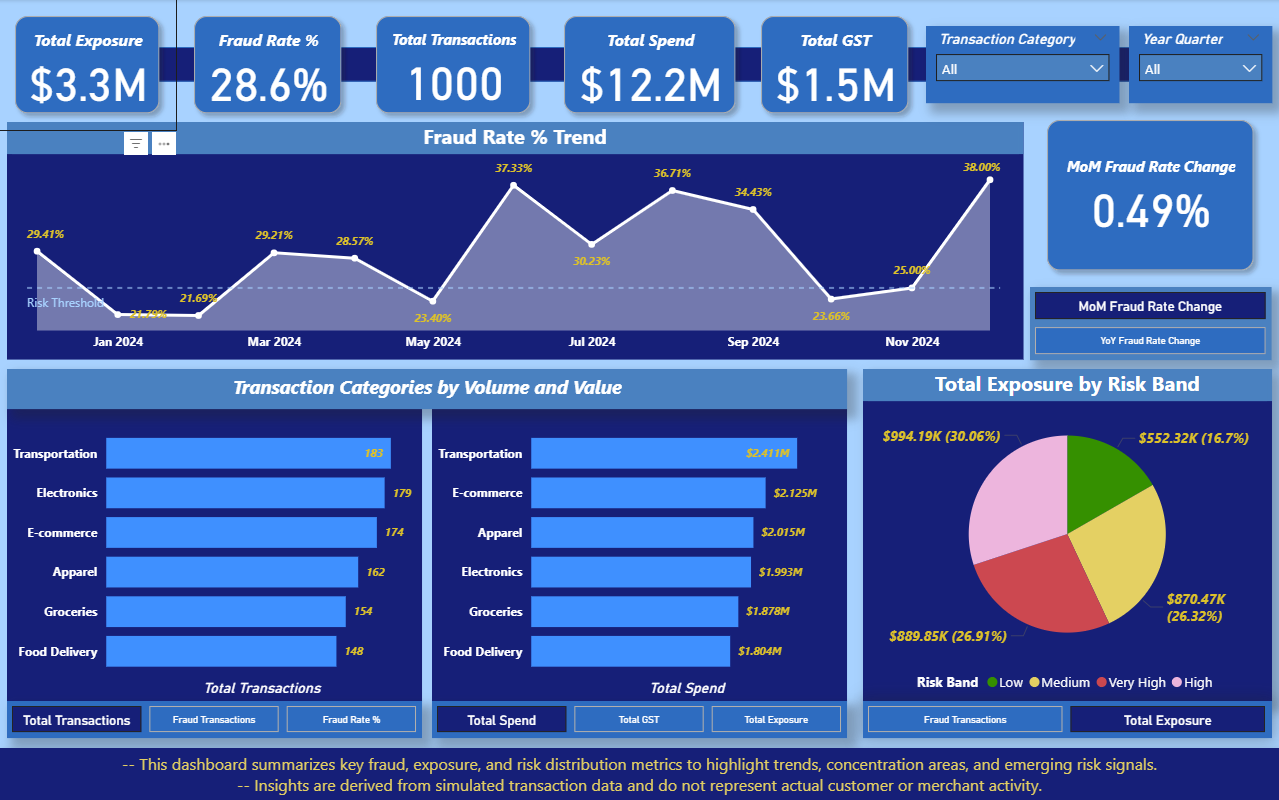

This screenshot's page, from the dashboard's own definition file:
{"tool":"powerbi","page":{"name":"Executive Risk Overview","canvas":[1280,800],"ordinal":0},"visuals":[{"type":"shape","box":[25.5,48.3,1222.6,34.6],"z":0},{"type":"cardVisual","fields":{"Data":["Available Measures.Fraud Rate %"]},"box":[178.6,0,181,131.2],"z":1000},{"type":"lineChart","title":"Fraud Rate % Trend","fields":{"Y":["Available Measures.Fraud Rate %"],"Category":["transactions_enriched.Transaction Month"]},"box":[9,123,1013.6,237],"z":2000},{"type":"cardVisual","fields":{"Data":["Available Measures.Total Transactions"]},"box":[359.6,0,188.4,131.2],"z":3000},{"type":"cardVisual","fields":{"Data":["Available Measures.Total GST"]},"box":[744.3,0,181.3,131.2],"z":4000},{"type":"cardVisual","fields":{"Data":["Available Measures.Total Spend"]},"box":[548.1,0,205.6,131.2],"z":5000},{"type":"cardVisual","fields":{"Data":["Available Measures.Total Exposure"]},"box":[0,0,178.6,131.2],"z":6000},{"type":"slicer","fields":{"Values":["transactions_enriched.Transaction Category"]},"box":[925.6,27.3,193.1,76.5],"z":7000},{"type":"slicer","fields":{"Values":["transactions_enriched.Year Quarter"]},"box":[1127.9,27.3,143,76.5],"z":8000},{"type":"clusteredBarChart","fields":{"Y":["Available Measures.Fraud Rate %"],"Category":["transactions_enriched.Transaction Category"]},"box":[8.8,408.5,414.3,291.8],"z":9000},{"type":"advancedSlicerVisual","fields":{"Values":["Time Comparison.Time Comparison"]},"box":[1029.7,287.3,240.6,72.7],"z":10000},{"type":"cardVisual","fields":{"Data":["Available Measures.YoY Fraud Rate Change"]},"box":[1029.7,103.2,240.6,184],"z":11000},{"type":"advancedSlicerVisual","fields":{"Values":["Measures Parameter.Measures Parameter"]},"box":[8.8,700.2,414.3,37],"z":12000},{"type":"clusteredBarChart","fields":{"Y":["Available Measures.Total Exposure"],"Category":["transactions_enriched.Transaction Category"]},"box":[432.8,408.5,414.3,291.8],"z":13000},{"type":"advancedSlicerVisual","fields":{"Values":["Measures Parameter 2.Measures Parameter 2"]},"box":[432.8,700.2,414.3,37],"z":14000},{"type":"textbox","box":[8.8,368.6,838.4,39.9],"z":15000},{"type":"pieChart","fields":{"Y":["Available Measures.Total Exposure"],"Category":["transactions_enriched.Risk Band"]},"box":[862.7,368.6,407.5,331.6],"z":16000},{"type":"advancedSlicerVisual","fields":{"Values":["Fraud Transactions/ Exposure Parameter.Fraud Transactions/ Exposure Parameter"]},"box":[862.7,700.2,407.5,37],"z":17000},{"type":"textbox","box":[0,747.1,1279.8,52.9],"z":18000}]}

Visuals, with their boxes in screenshot pixels (x1, y1, x2, y2), scaled from the page's 1280x800 canvas onto the 1279x800 screenshot:
shape: BBox(25, 48, 1247, 83)
cardVisual - Available Measures.Fraud Rate %: BBox(178, 0, 359, 131)
"Fraud Rate % Trend" lineChart: BBox(9, 123, 1022, 360)
cardVisual - Available Measures.Total Transactions: BBox(359, 0, 548, 131)
cardVisual - Available Measures.Total GST: BBox(744, 0, 925, 131)
cardVisual - Available Measures.Total Spend: BBox(548, 0, 753, 131)
cardVisual - Available Measures.Total Exposure: BBox(0, 0, 178, 131)
slicer - transactions_enriched.Transaction Category: BBox(925, 27, 1118, 104)
slicer - transactions_enriched.Year Quarter: BBox(1127, 27, 1270, 104)
clusteredBarChart - Available Measures.Fraud Rate % x transactions_enriched.Transaction Category: BBox(9, 408, 423, 700)
advancedSlicerVisual - Time Comparison.Time Comparison: BBox(1029, 287, 1269, 360)
cardVisual - Available Measures.YoY Fraud Rate Change: BBox(1029, 103, 1269, 287)
advancedSlicerVisual - Measures Parameter.Measures Parameter: BBox(9, 700, 423, 737)
clusteredBarChart - Available Measures.Total Exposure x transactions_enriched.Transaction Category: BBox(432, 408, 846, 700)
advancedSlicerVisual - Measures Parameter 2.Measures Parameter 2: BBox(432, 700, 846, 737)
textbox: BBox(9, 369, 847, 408)
pieChart - Available Measures.Total Exposure x transactions_enriched.Risk Band: BBox(862, 369, 1269, 700)
advancedSlicerVisual - Fraud Transactions/ Exposure Parameter.Fraud Transactions/ Exposure Parameter: BBox(862, 700, 1269, 737)
textbox: BBox(0, 747, 1278, 799)
